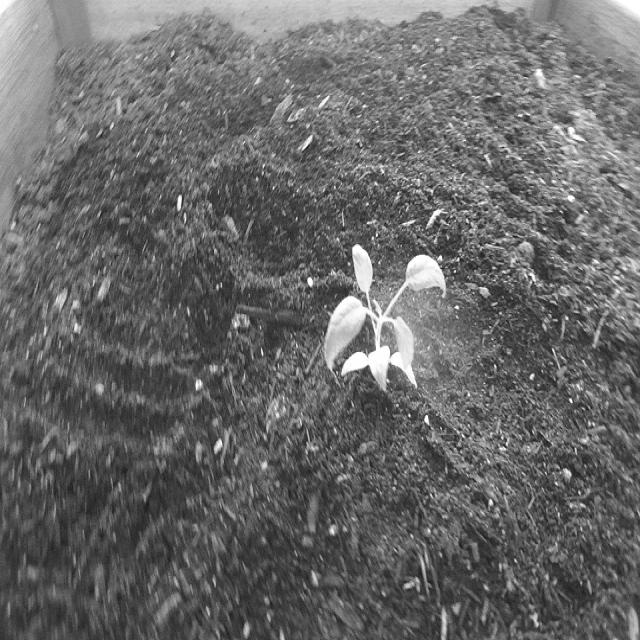Healthy: (323, 234, 450, 400)
